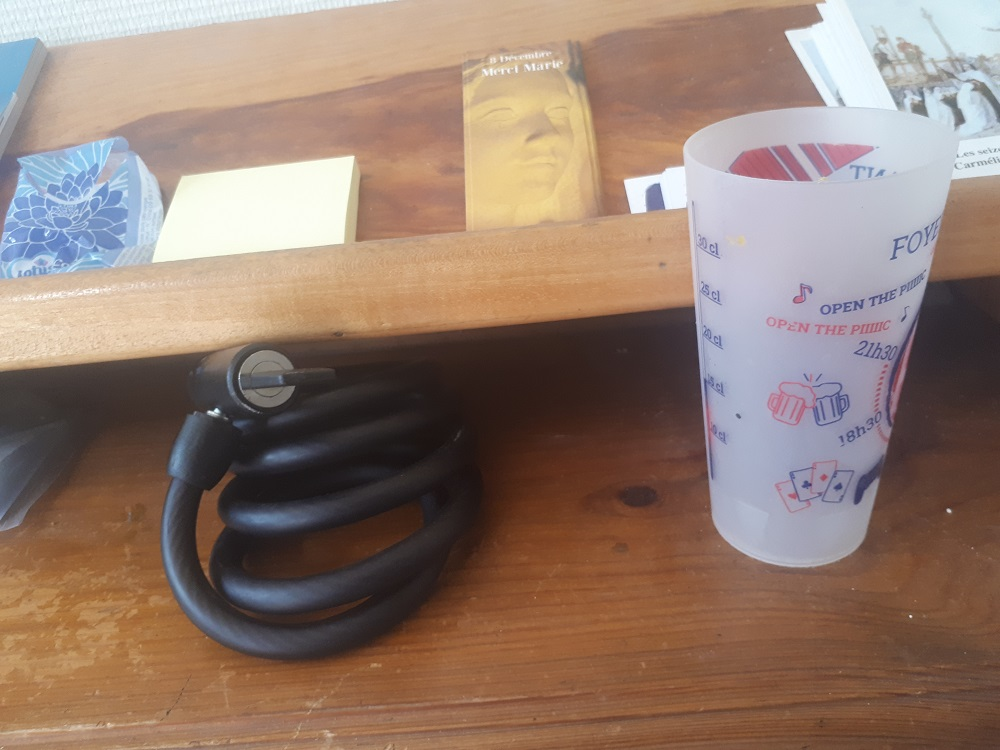ecocup: (682, 106, 960, 568)
